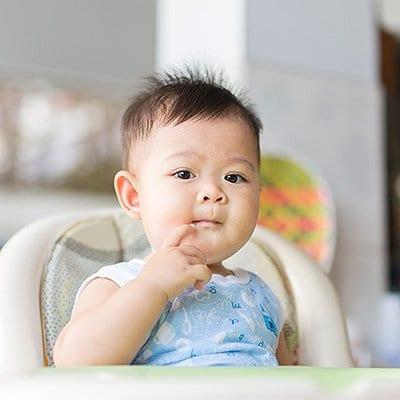Healthy: (113, 54, 276, 280)
